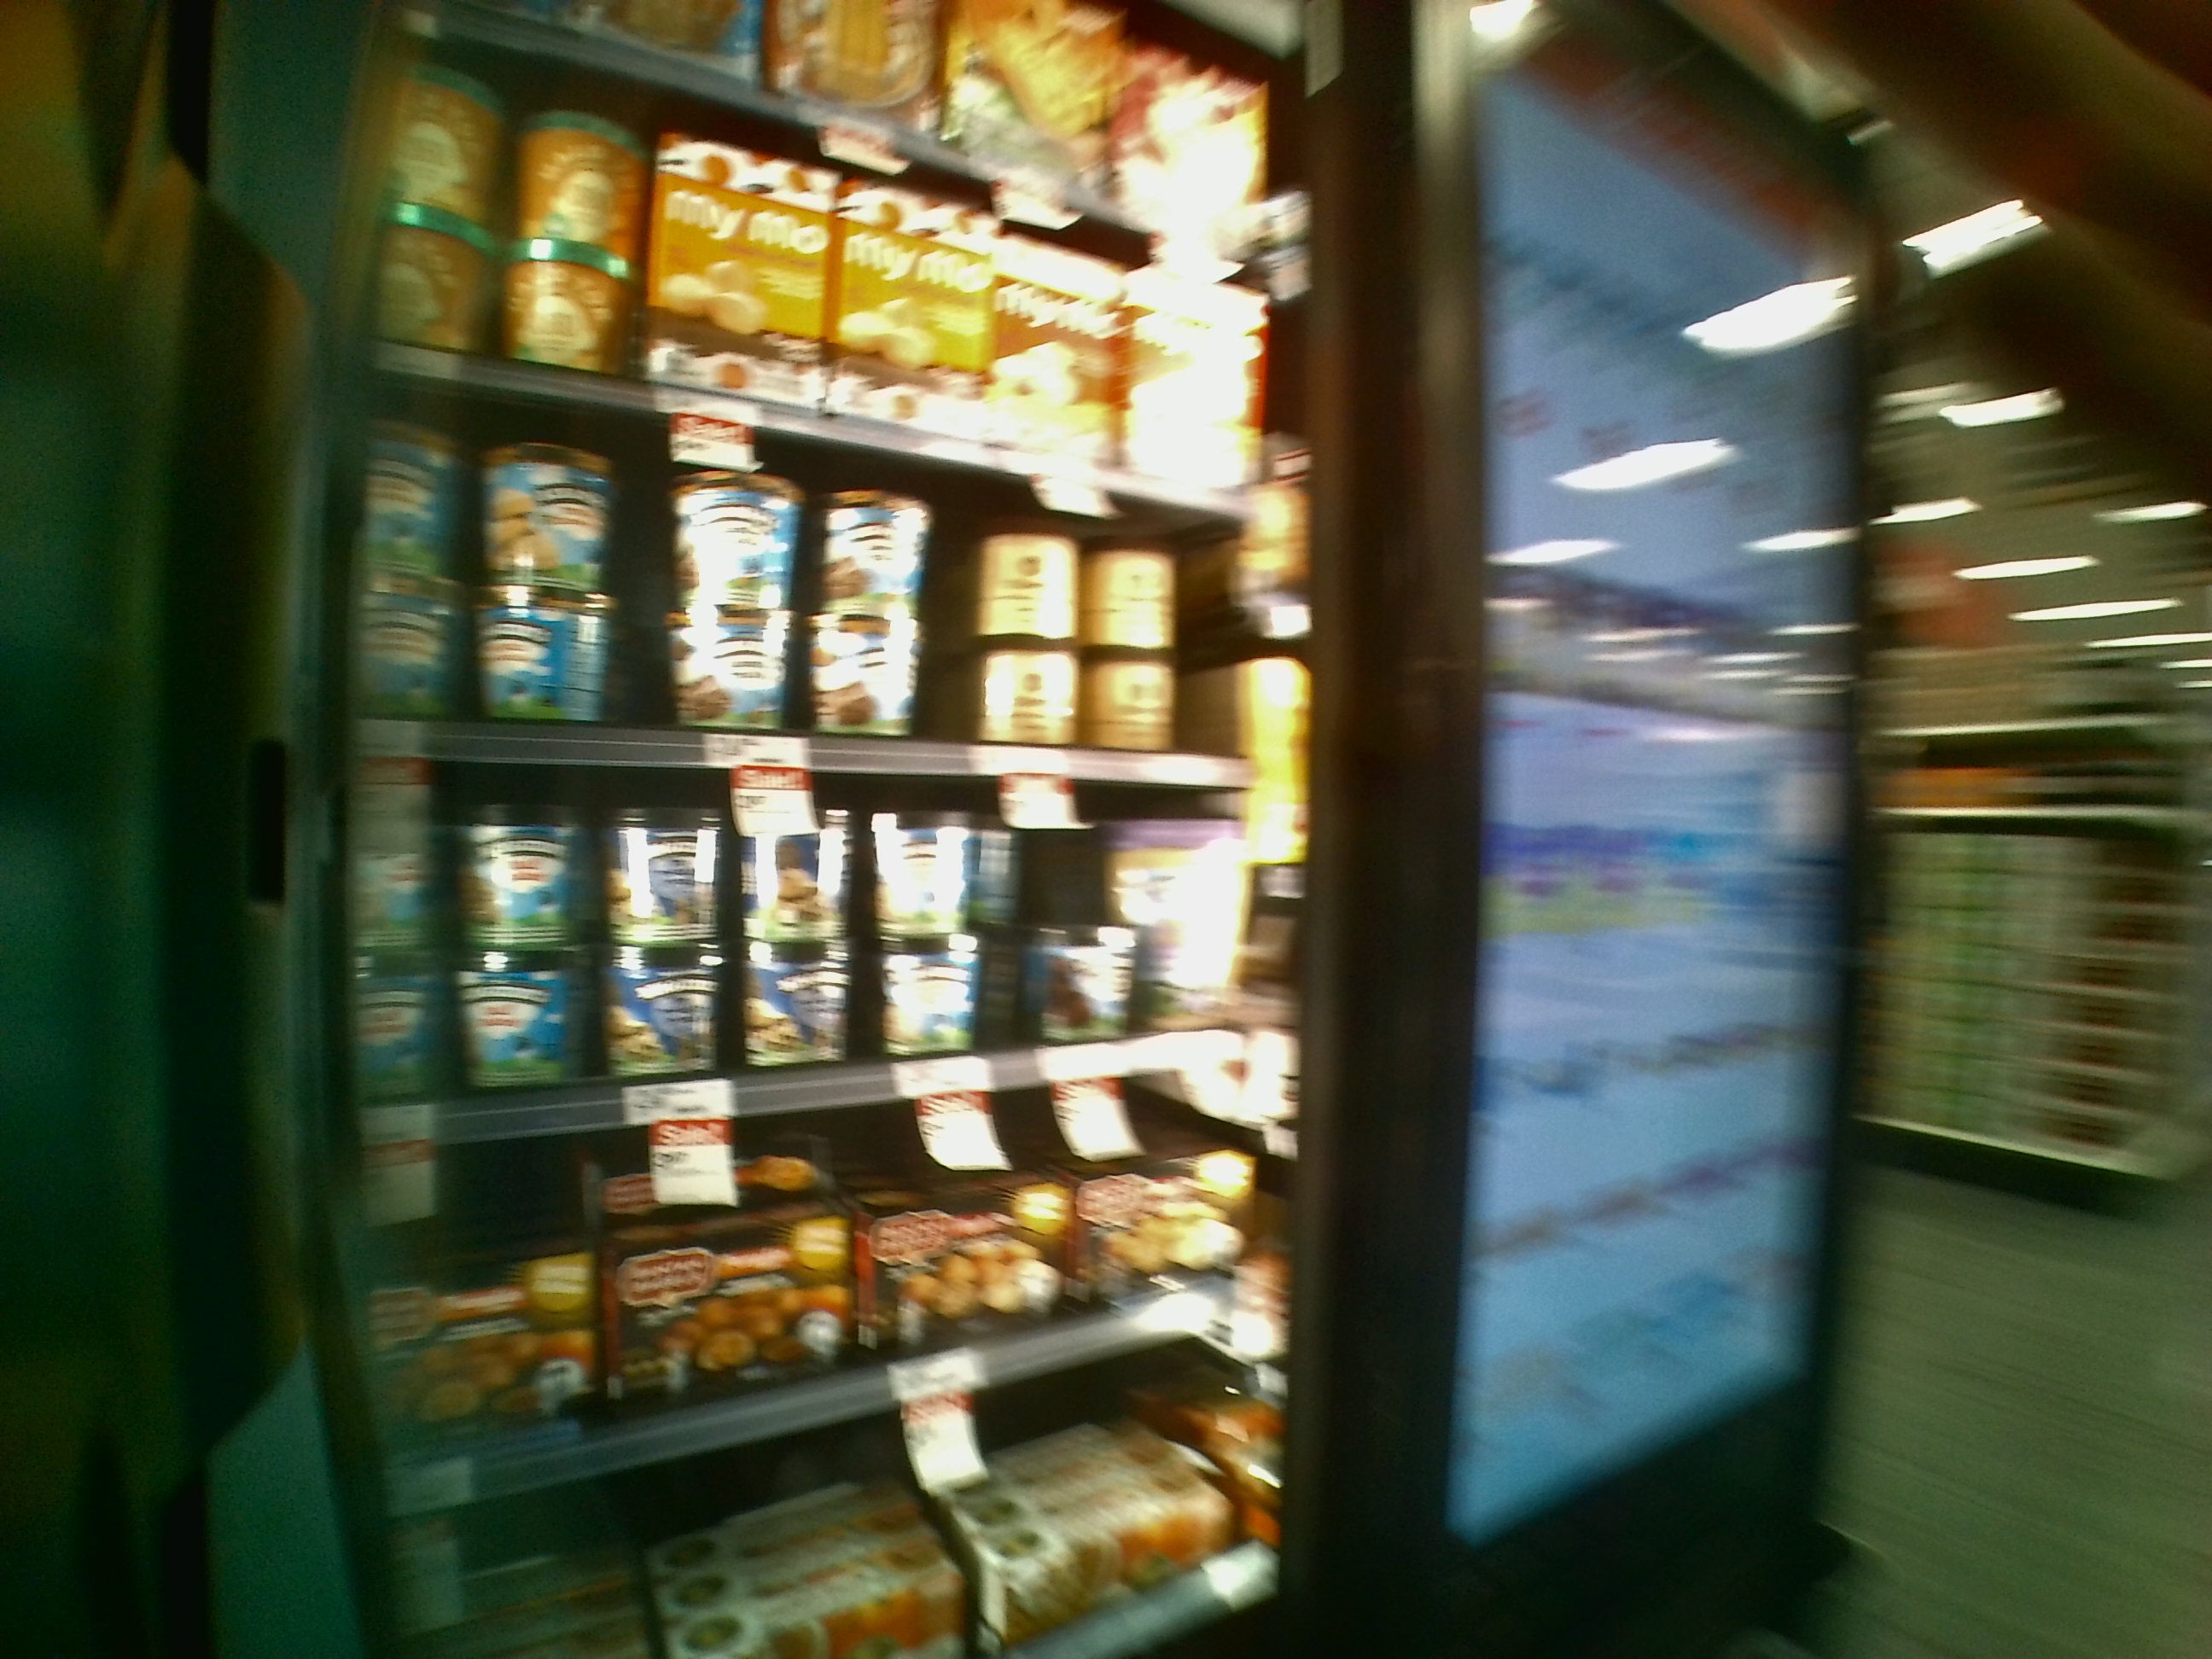shelf: (359, 364, 1362, 796), (307, 755, 1322, 1101), (322, 1110, 1346, 1448)
